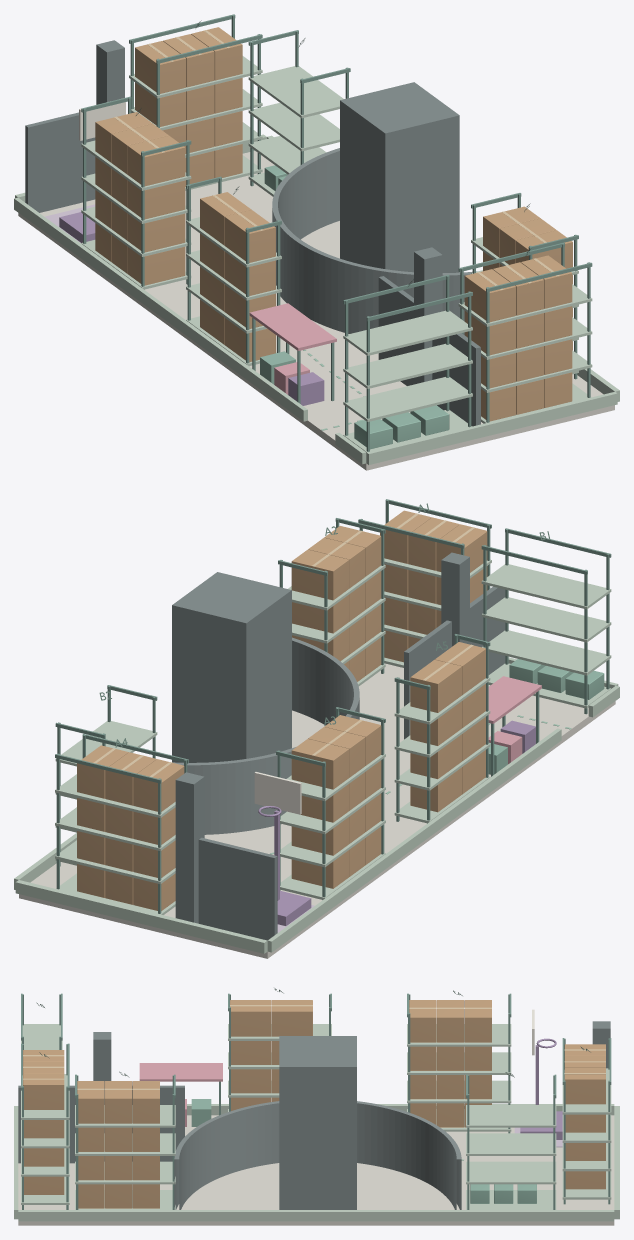
File: warehouse-layout.glb
3 renders of one model, top to bottom at view 1: azimuth 30°, elevation 25°; view 2: azimuth 150°, elevation 25°; view 3: azimuth 270°, elevation 25°, orthographic. The views are drawn at different scales.
Parts seen in each view (by area): view 1: EXISTING_column, EXISTING_CURVED_ENCLOSURE_cutaway, ROOM_FLOOR_3540x8585, EXISTING_brace-bottom, Existing_wall_cutaway_4, Existing_wall_cutaway_0, EXISTING_divider, B1_shelf_2, B1_shelf_4, B1_shelf_3, B2_shelf_4, B2_shelf_3 (+59 smaller); view 2: EXISTING_column, ROOM_FLOOR_3540x8585, EXISTING_CURVED_ENCLOSURE_cutaway, EXISTING_brace-bottom, Existing_wall_cutaway_4, EXISTING_post-bottom, Existing_wall_cutaway_2, EXISTING_divider, B1_shelf_4, B1_shelf_3, B1_shelf_2, EXISTING_post-top (+60 smaller); view 3: EXISTING_column, EXISTING_CURVED_ENCLOSURE_cutaway, ROOM_FLOOR_3540x8585, Existing_wall_cutaway_1, B2_shelf_2, B2_shelf_3, B2_shelf_4, EXISTING_divider, INSPECTION_WORKTOP, A1_cake_carton_12, A4_cake_carton_12, A5_cake_carton_7 (+69 smaller).
Boxes of the visible parts, x1=… form: EXISTING_column: x1=340, y1=82, x2=459, y2=272; EXISTING_CURVED_ENCLOSURE_cutaway: x1=272, y1=148, x2=476, y2=334; ROOM_FLOOR_3540x8585: x1=18, y1=151, x2=614, y2=470; EXISTING_brace-bottom: x1=25, y1=112, x2=95, y2=212; Existing_wall_cutaway_4: x1=14, y1=197, x2=307, y2=421; Existing_wall_cutaway_0: x1=366, y1=392, x2=617, y2=464; EXISTING_divider: x1=378, y1=276, x2=480, y2=426; B1_shelf_2: x1=343, y1=377, x2=472, y2=421; B1_shelf_4: x1=343, y1=310, x2=472, y2=355; B1_shelf_3: x1=343, y1=343, x2=472, y2=388; B2_shelf_4: x1=248, y1=66, x2=343, y2=118; B2_shelf_3: x1=248, y1=103, x2=339, y2=151; EXISTING_column: x1=172, y1=572, x2=291, y2=762; ROOM_FLOOR_3540x8585: x1=19, y1=663, x2=615, y2=958; EXISTING_CURVED_ENCLOSURE_cutaway: x1=172, y1=637, x2=359, y2=834; EXISTING_brace-bottom: x1=198, y1=837, x2=277, y2=940; Existing_wall_cutaway_4: x1=267, y1=728, x2=561, y2=952; EXISTING_post-bottom: x1=175, y1=772, x2=204, y2=923; Existing_wall_cutaway_2: x1=15, y1=880, x2=267, y2=953; EXISTING_divider: x1=404, y1=586, x2=505, y2=739; B1_shelf_4: x1=481, y1=564, x2=611, y2=609; B1_shelf_3: x1=481, y1=597, x2=611, y2=642; B1_shelf_2: x1=482, y1=630, x2=611, y2=675; EXISTING_post-top: x1=441, y1=552, x2=469, y2=646; EXISTING_column: x1=279, y1=1036, x2=356, y2=1209; EXISTING_CURVED_ENCLOSURE_cutaway: x1=174, y1=1101, x2=461, y2=1209; ROOM_FLOOR_3540x8585: x1=18, y1=1115, x2=614, y2=1225; Existing_wall_cutaway_1: x1=18, y1=1210, x2=614, y2=1221; B2_shelf_2: x1=466, y1=1161, x2=556, y2=1184; B2_shelf_3: x1=466, y1=1133, x2=556, y2=1155; B2_shelf_4: x1=466, y1=1105, x2=556, y2=1127; EXISTING_divider: x1=18, y1=1085, x2=184, y2=1163; INSPECTION_WORKTOP: x1=139, y1=1063, x2=222, y2=1081; A1_cake_carton_12: x1=23, y1=1073, x2=64, y2=1109; A4_cake_carton_12: x1=564, y1=1068, x2=605, y2=1104; A5_cake_carton_7: x1=230, y1=1000, x2=271, y2=1036.
Bounding box in the file's own units: 3.67 × 2.5 × 8.72.
